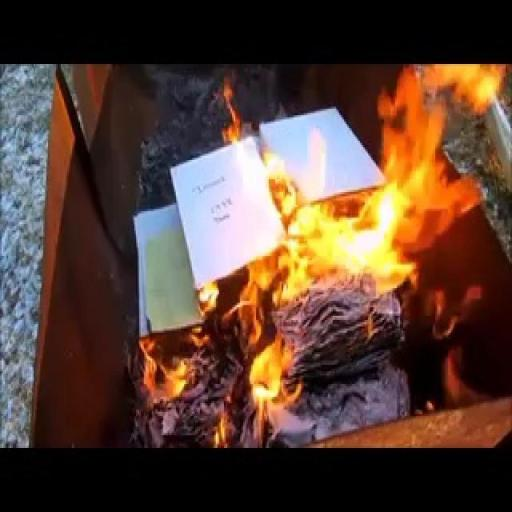smoke: (128, 311, 245, 425)
